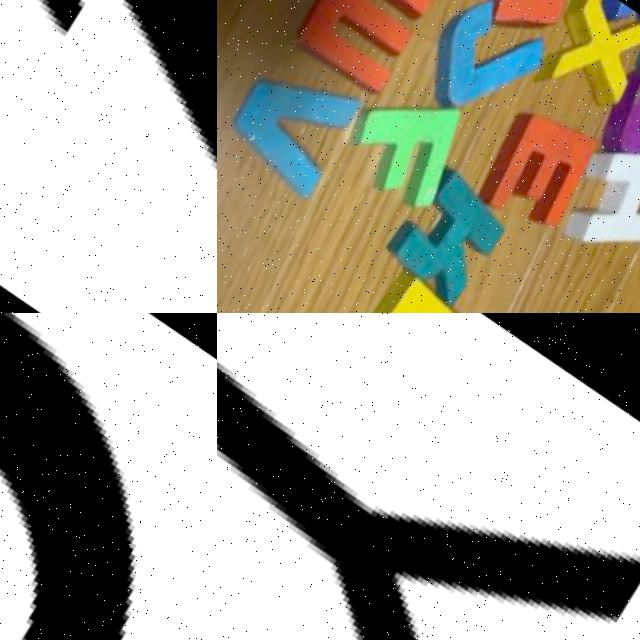E: (467, 84, 604, 240)
F: (336, 46, 491, 218)
G: (0, 313, 217, 640), (582, 8, 640, 175)
H: (545, 94, 640, 273)
J: (410, 0, 556, 139)
K: (368, 143, 518, 313)
L: (333, 256, 473, 313)
V: (217, 34, 367, 200)
W: (282, 0, 447, 101)
X: (523, 0, 640, 123)
Y: (217, 313, 640, 640)
Z: (0, 0, 217, 313)
